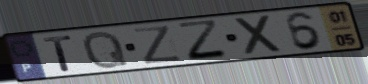6: (284, 11, 323, 52)
Q: (81, 29, 131, 71)
T: (41, 34, 75, 73)
X: (231, 13, 286, 58)
Z: (175, 18, 232, 62), (131, 24, 186, 66)
